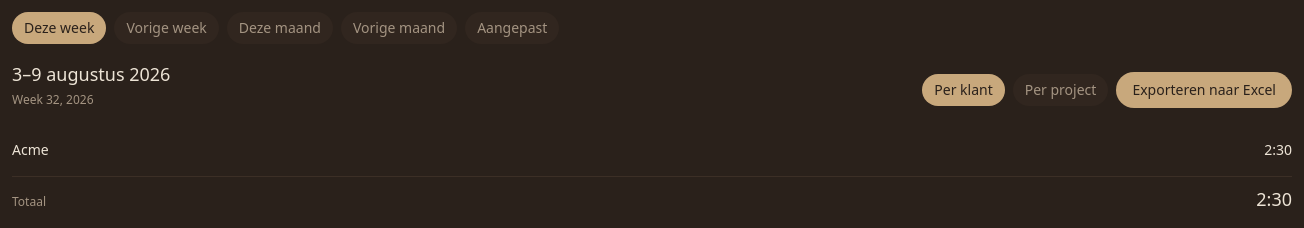
Test case: a period picked by hand › refuses a range that ends before it starts instead of asking for it
Expected: the list item is shown, [12,140,1292,159]
Click the button "Aangepast": [512, 28] box [465,12,559,44]
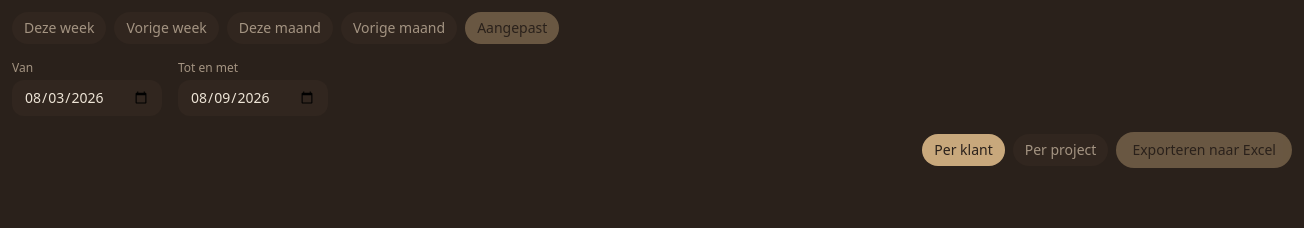
In the date field labelled "Van": [87, 98] box [12,80,162,116], type "2026-09-01"
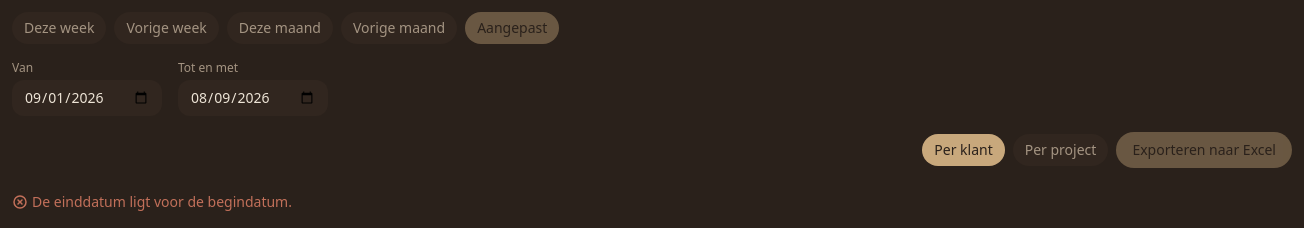
Now the text "De einddatum ligt voor de begindatum." is shown, box [12,192,292,211]
